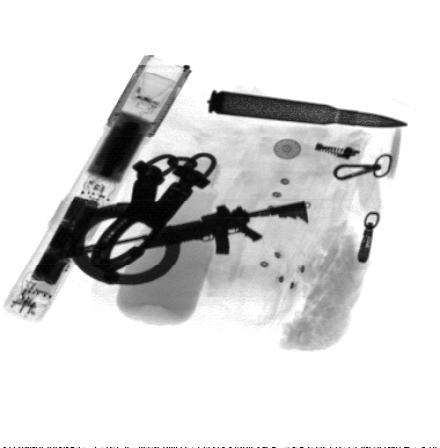Baton: (1, 53, 195, 321)
Bullet: (210, 90, 411, 127)
Gun: (51, 200, 308, 259)
HandCuffs: (73, 153, 218, 286)
